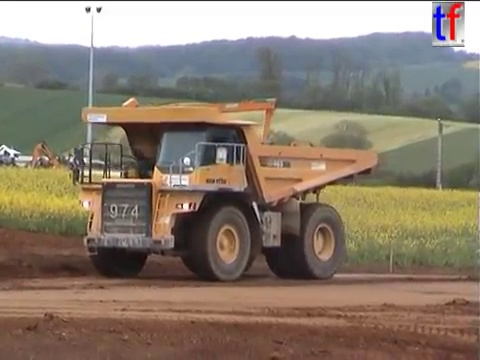crane: (117, 94, 278, 171)
excavator: (26, 140, 69, 178)
truck: (67, 99, 381, 284)
